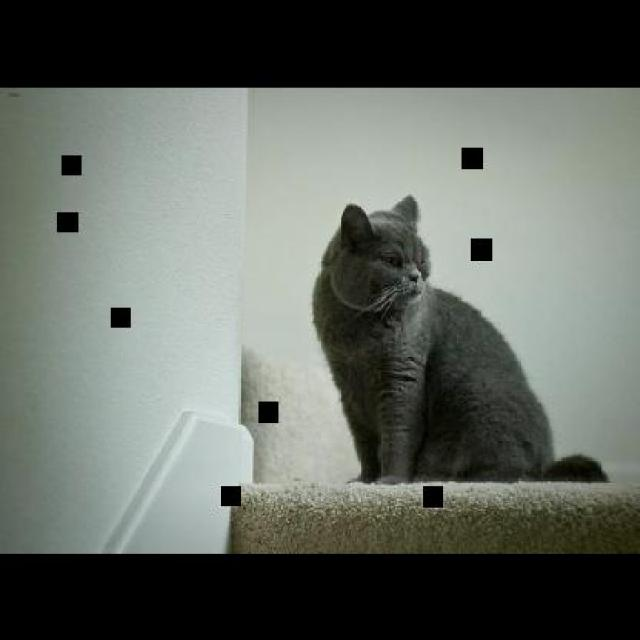unauthorized: (311, 192, 609, 485)
